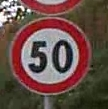limite 50: (9, 16, 91, 95)
